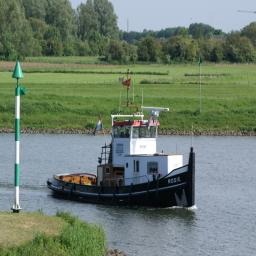tugboat: (47, 102, 198, 213)
